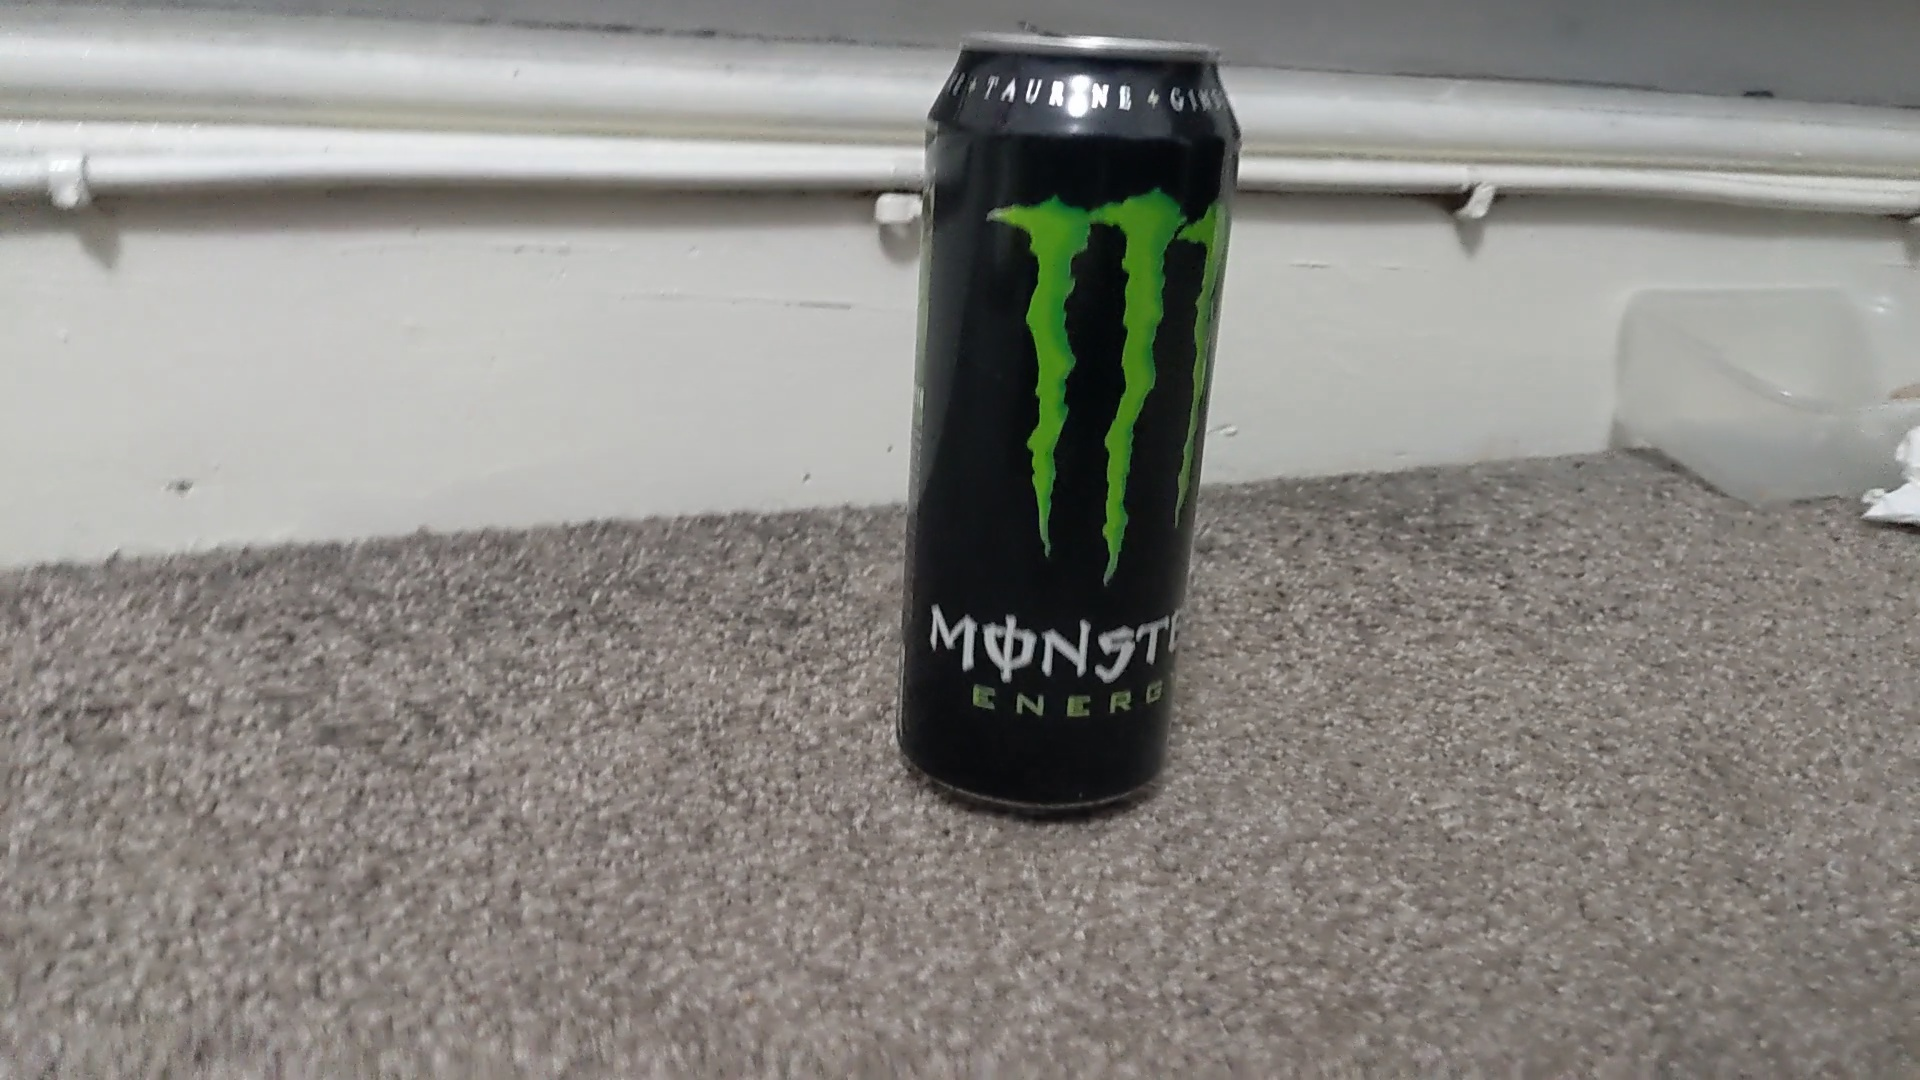monster-original: (887, 29, 1247, 825)
